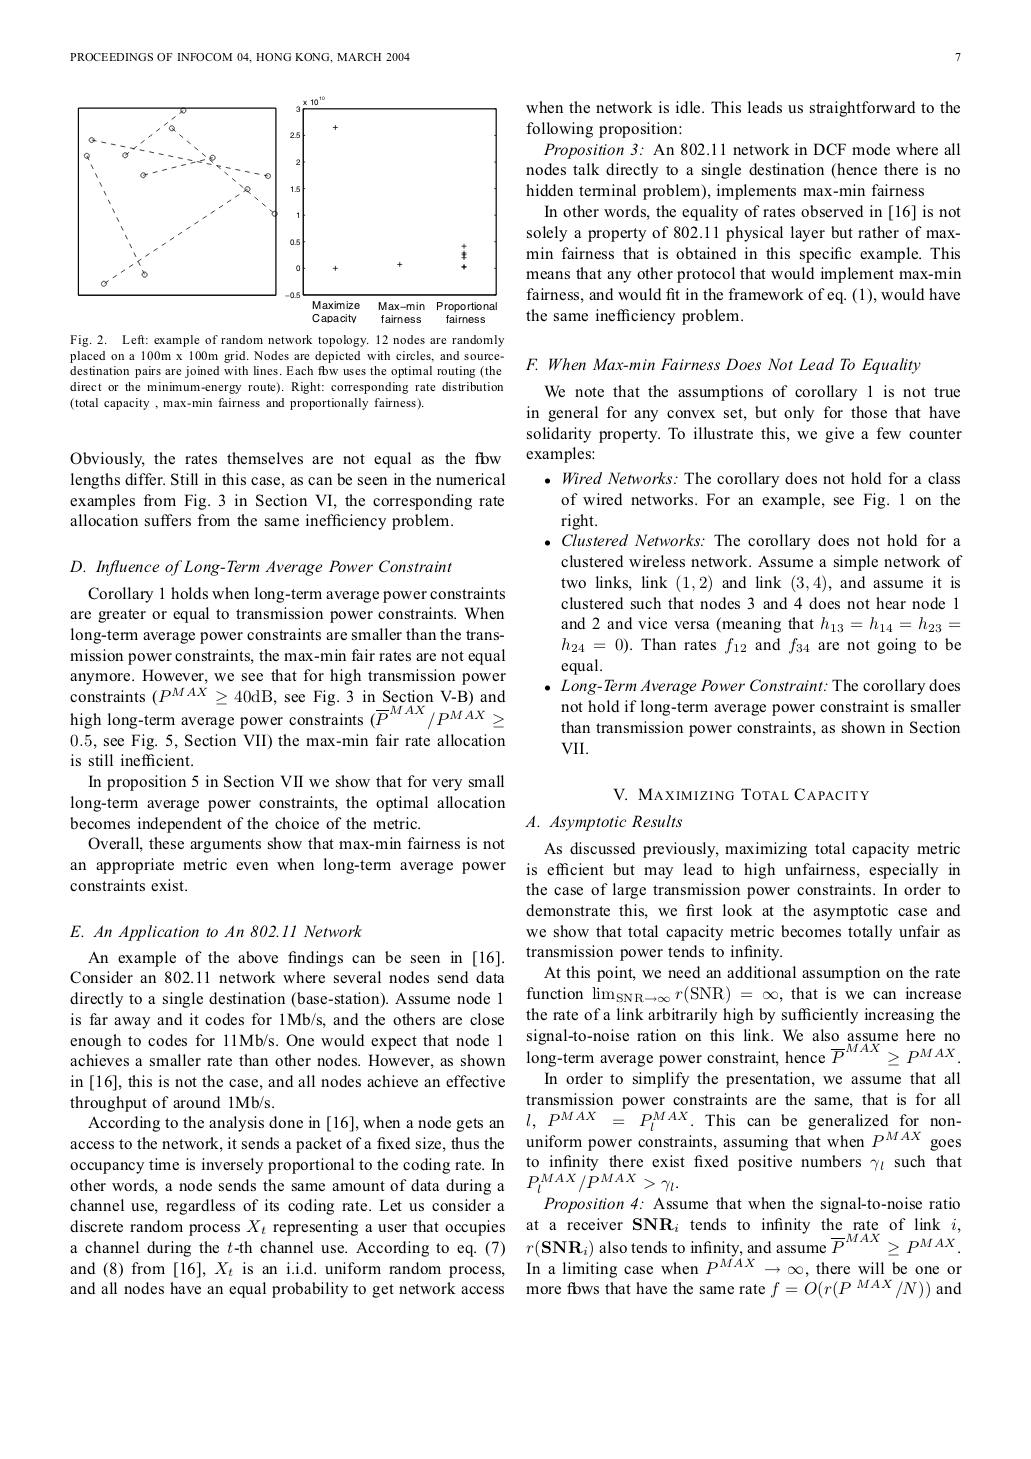figure: (285, 96, 497, 322), (77, 107, 277, 294)
formula: (526, 1173, 677, 1192)
